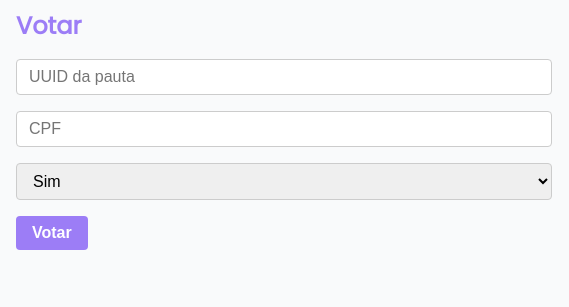
Scenario: Vote › exibe mensagem de erro se envio falhar
This screenshot has width=569, height=307.
Type "1234" into the field with placeholder "UUID da pauta" at (284, 77), box [16,59,552,95]
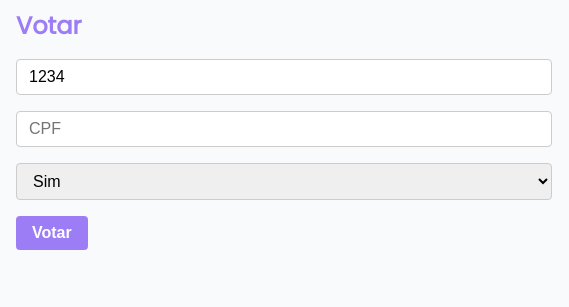
Type "00000000000" into the field with placeholder "CPF" at (284, 129), box [16,111,552,147]
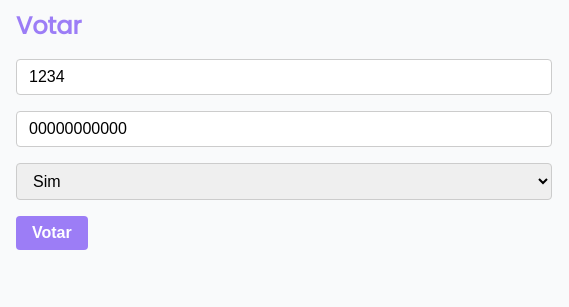
Click the button "Votar" at (52, 233), box [16,216,88,250]
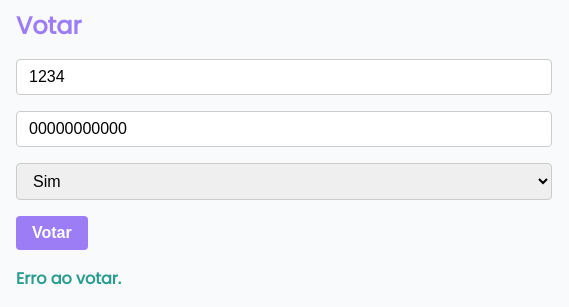
Check: the text "Erro ao votar." is shown, box [16,267,121,290]
